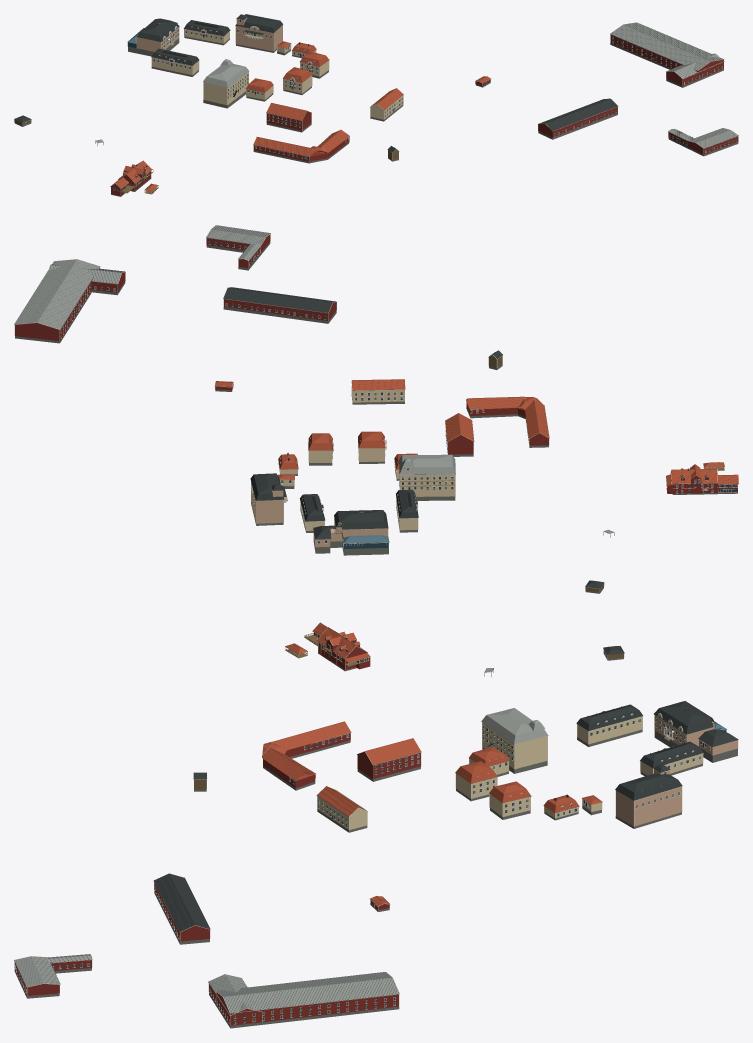
3 views of the same model, one above another, from view 1: azimuth 30°, elevation 25°; view 2: azimuth 150°, elevation 25°; view 3: azimuth 270°, elevation 25° (orthographic). The views are drawn at different scales.
Visible parts, largest first — view 1: johannesberg-building-w296165900 | architecture.004, johannesberg-old-stable | architecture.004, johannesberg-johannesbergsflygeln | architecture.004, johannesberg-building-w296165907 | architecture.004, johannesberg-karolinerhuset | architecture.004, johannesberg-manor | architecture.004, johannesberg-building-w296165889 | architecture.004, johannesberg-west-wing | architecture.004, johannesberg-building-w296165906 | architecture.004, johannesberg-clubhouse | architecture.004, johannesberg-east-wing | architecture.004, johannesberg-building-w296165903 | architecture.004 (+3 smaller); view 2: johannesberg-building-w296165900 | architecture.004, johannesberg-manor | architecture.004, johannesberg-building-w296165907 | architecture.004, johannesberg-johannesbergsflygeln | architecture.004, johannesberg-old-stable | architecture.004, johannesberg-clubhouse | architecture.004, johannesberg-building-w296165889 | architecture.004, johannesberg-karolinerhuset | architecture.004, johannesberg-building-w296165903 | architecture.004, johannesberg-building-w296165906 | architecture.004, johannesberg-west-slottsvilla | architecture.004, johannesberg-west-wing | architecture.004 (+2 smaller); view 3: johannesberg-building-w296165900 | architecture.004, johannesberg-karolinerhuset | architecture.004, johannesberg-manor | architecture.004, johannesberg-johannesbergsflygeln | architecture.004, johannesberg-old-stable | architecture.004, johannesberg-building-w296165907 | architecture.004, johannesberg-building-w296165889 | architecture.004, johannesberg-building-w296165906 | architecture.004, johannesberg-west-wing | architecture.004, johannesberg-clubhouse | architecture.004, johannesberg-building-w296165903 | architecture.004, johannesberg-east-wing | architecture.004 (+4 smaller).
Boxes of the visible parts, left/top/right/bottom form: johannesberg-building-w296165900 | architecture.004: left=610, top=22, right=724, bottom=87; johannesberg-old-stable | architecture.004: left=253, top=129, right=349, bottom=163; johannesberg-johannesbergsflygeln | architecture.004: left=203, top=59, right=249, bottom=108; johannesberg-building-w296165907 | architecture.004: left=538, top=98, right=618, bottom=139; johannesberg-karolinerhuset | architecture.004: left=235, top=14, right=283, bottom=52; johannesberg-manor | architecture.004: left=127, top=18, right=179, bottom=56; johannesberg-building-w296165889 | architecture.004: left=668, top=128, right=738, bottom=156; johannesberg-west-wing | architecture.004: left=151, top=48, right=199, bottom=76; johannesberg-building-w296165906 | architecture.004: left=266, top=103, right=311, bottom=132; johannesberg-clubhouse | architecture.004: left=110, top=160, right=153, bottom=196; johannesberg-east-wing | architecture.004: left=183, top=20, right=230, bottom=45; johannesberg-building-w296165903 | architecture.004: left=370, top=88, right=403, bottom=121; johannesberg-building-w296165900 | architecture.004: left=14, top=259, right=125, bottom=343; johannesberg-manor | architecture.004: left=313, top=510, right=389, bottom=555; johannesberg-building-w296165907 | architecture.004: left=223, top=287, right=337, bottom=323; johannesberg-johannesbergsflygeln | architecture.004: left=399, top=454, right=455, bottom=500; johannesberg-old-stable | architecture.004: left=466, top=396, right=549, bottom=447; johannesberg-clubhouse | architecture.004: left=666, top=464, right=738, bottom=494; johannesberg-building-w296165889 | architecture.004: left=206, top=225, right=270, bottom=270; johannesberg-karolinerhuset | architecture.004: left=250, top=473, right=287, bottom=525; johannesberg-building-w296165903 | architecture.004: left=351, top=379, right=405, bottom=404; johannesberg-building-w296165906 | architecture.004: left=445, top=413, right=474, bottom=456; johannesberg-west-slottsvilla | architecture.004: left=358, top=431, right=386, bottom=463; johannesberg-west-wing | architecture.004: left=396, top=489, right=418, bottom=532; johannesberg-building-w296165900 | architecture.004: left=208, top=972, right=399, bottom=1028; johannesberg-karolinerhuset | architecture.004: left=615, top=764, right=682, bottom=828; johannesberg-manor | architecture.004: left=654, top=701, right=738, bottom=762; johannesberg-johannesbergsflygeln | architecture.004: left=481, top=708, right=548, bottom=773; johannesberg-old-stable | architecture.004: left=262, top=721, right=351, bottom=790; johannesberg-building-w296165907 | architecture.004: left=153, top=873, right=210, bottom=944; johannesberg-building-w296165889 | architecture.004: left=14, top=954, right=92, bottom=998; johannesberg-building-w296165906 | architecture.004: left=357, top=738, right=421, bottom=781; johannesberg-west-wing | architecture.004: left=576, top=704, right=642, bottom=746; johannesberg-clubhouse | architecture.004: left=304, top=622, right=370, bottom=671; johannesberg-building-w296165903 | architecture.004: left=316, top=786, right=367, bottom=832; johannesberg-east-wing | architecture.004: left=640, top=741, right=703, bottom=776.
Size of the model in its own units: 450 by 32.37 by 343.
